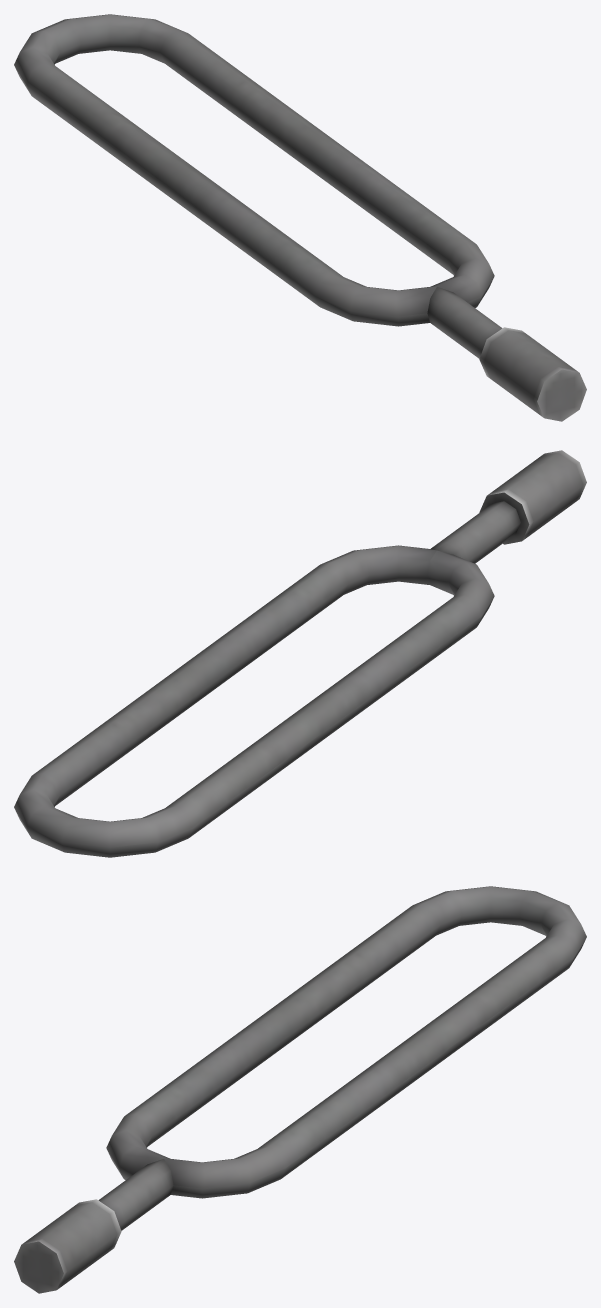
Rendered from hoop.obj.
3 views of the same model, one above another, from view 1: azimuth 30°, elevation 25°; view 2: azimuth 150°, elevation 25°; view 3: azimuth 330°, elevation 25° (orthographic).
Parts seen in each view (by area): view 1: hoop; view 2: hoop; view 3: hoop.
Part boxes in pixels (x1,y1,x2,y2): hoop: (14,14,586,421); hoop: (14,450,586,857); hoop: (14,886,586,1293).
Bounding box in the file's own units: 0.125 × 0.0375 × 0.65.
Materials: 1 (1 with a texture image).
